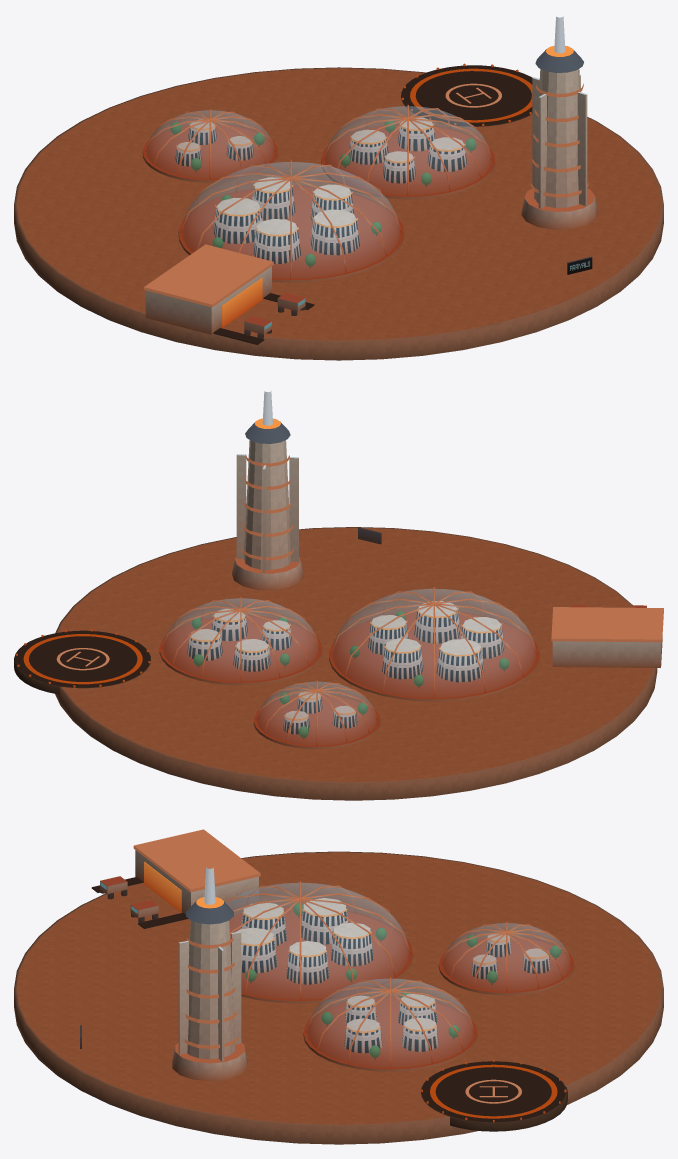
The model's file is mars_dome_town.glb.
3 renders of one model, top to bottom at view 1: azimuth 30°, elevation 25°; view 2: azimuth 150°, elevation 25°; view 3: azimuth 270°, elevation 25°, orthographic. The views are drawn at different scales.
Visible parts, largest first — view 1: mars_dome_town_LOD0; view 2: mars_dome_town_LOD0; view 3: mars_dome_town_LOD0.
Part boxes in pixels (x1,y1,x2,y2): mars_dome_town_LOD0: [14, 16, 663, 360]; mars_dome_town_LOD0: [14, 391, 663, 800]; mars_dome_town_LOD0: [14, 829, 663, 1144].
Size of what is drawn, in the model's own units: 101 by 37 by 101.
Materials: 4 (3 with a texture image).
